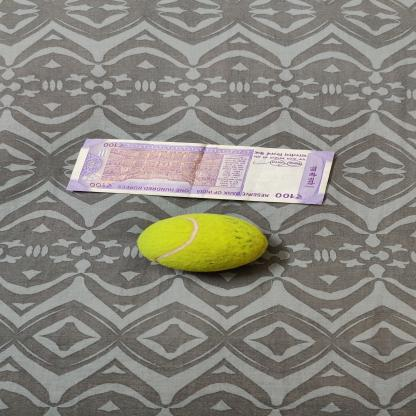New100Back: (64, 136, 339, 206)
